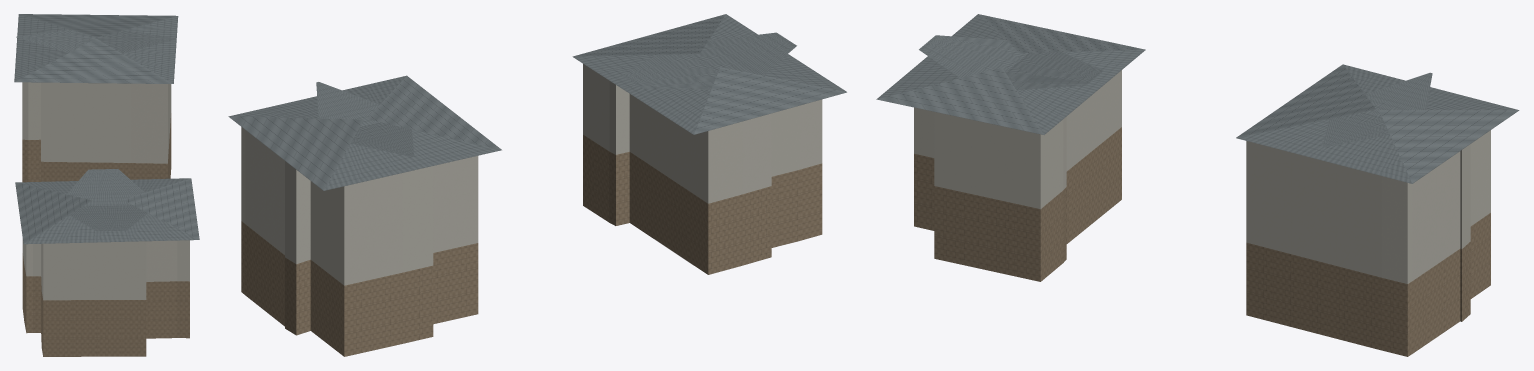
The model's file is bld_c31_-38_465.gltf.
3 views of the same model, side by side, from view 1: azimuth 30°, elevation 25°; view 2: azimuth 150°, elevation 25°; view 3: azimuth 270°, elevation 25° (orthographic). The views are drawn at different scales.
Visible parts, largest first — view 1: bld_c31_-38_465; view 2: bld_c31_-38_465; view 3: bld_c31_-38_465.
Boxes of the visible parts, <box> form: bld_c31_-38_465: <box>14,14,199,356</box>; bld_c31_-38_465: <box>228,14,846,356</box>; bld_c31_-38_465: <box>876,14,1519,356</box>.
Size of the model in its own units: 30.48 by 13.9 by 40.86.
3 materials, 3 textured.
